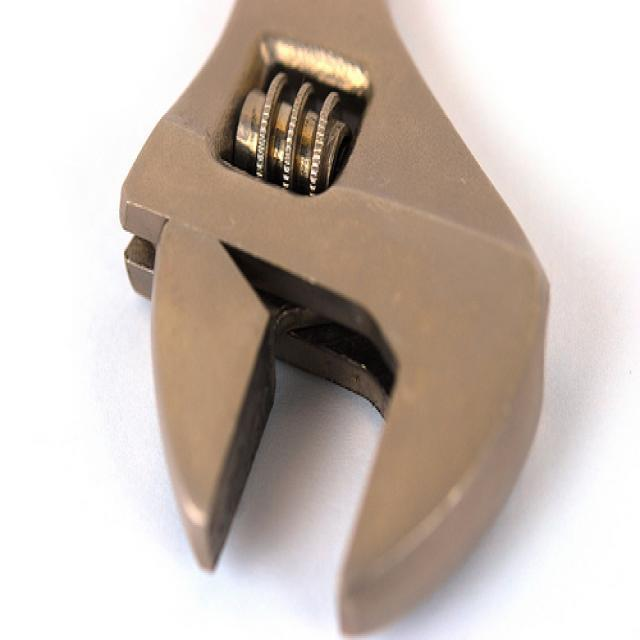wrench: (112, 0, 558, 640)
